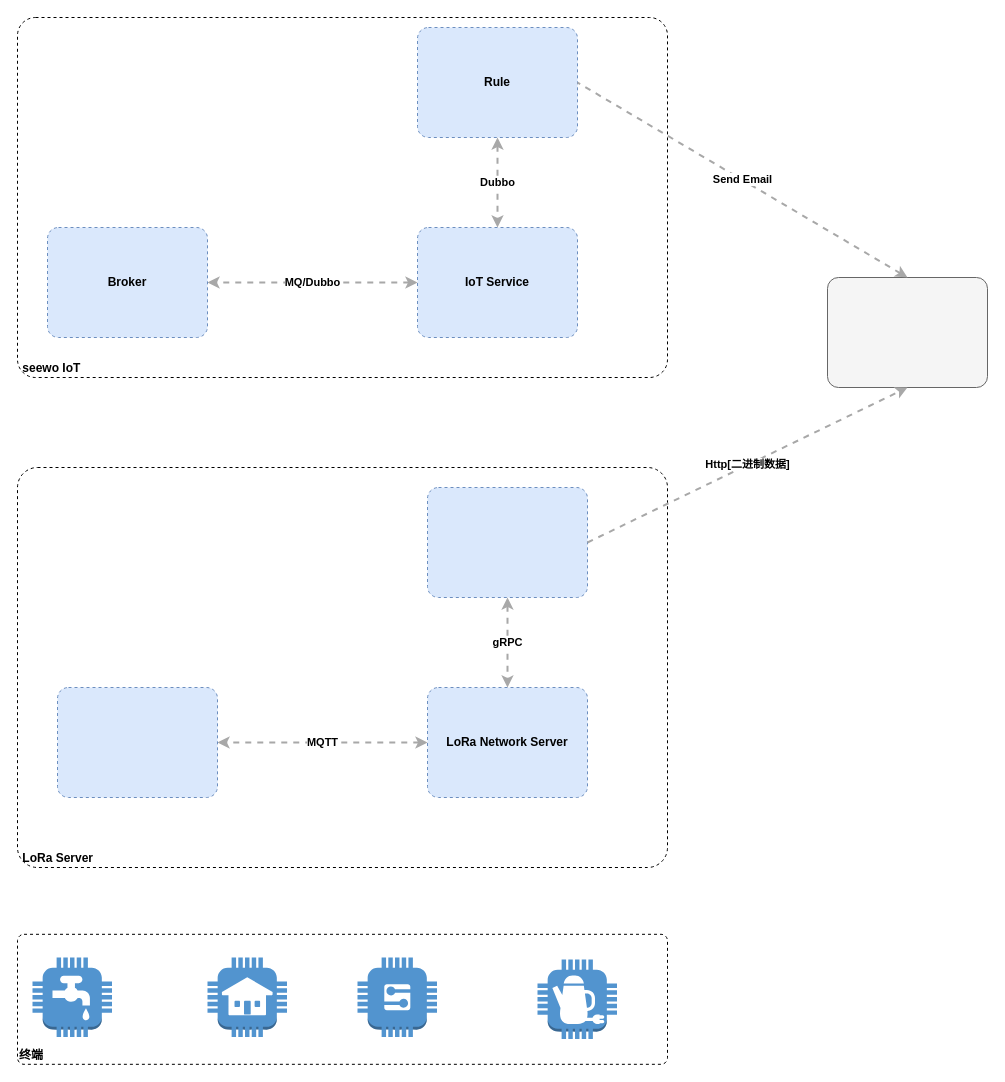
Image size: 1005x1082. Some labels were removed from this diagram. Each missing label, with the centre of its shape:
"App" belongs at (x=907, y=332).
"LoRa Application Server" belongs at (x=507, y=542).
"LoRa Gateway Bridge" belongs at (x=137, y=742).
